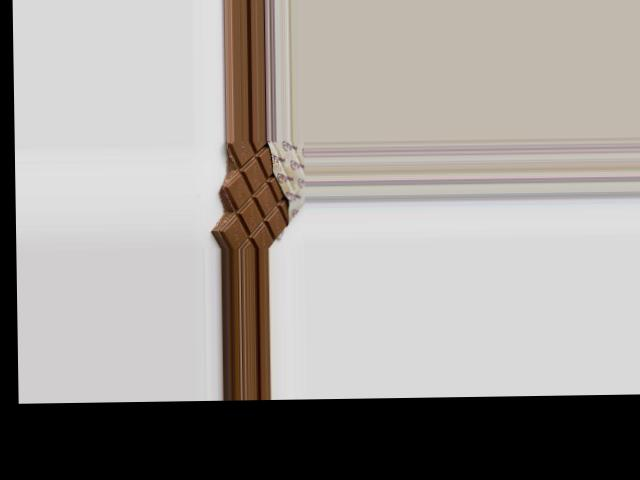chocolate: (218, 139, 304, 247)
